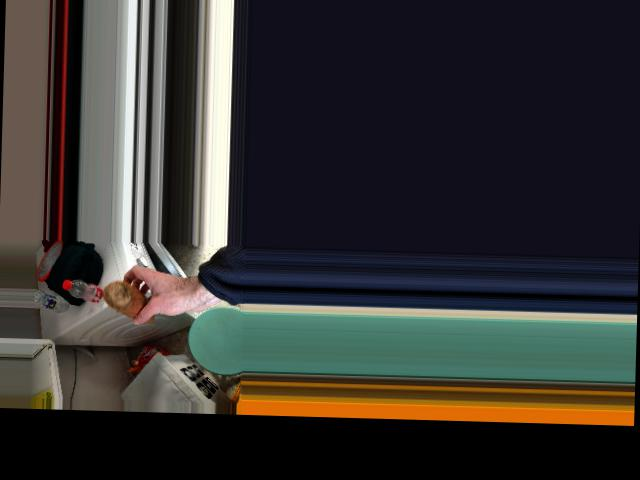sweet_potato: (105, 278, 162, 327)
